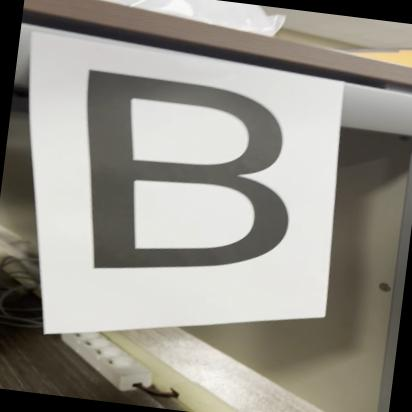seat: (49, 56, 332, 304)
